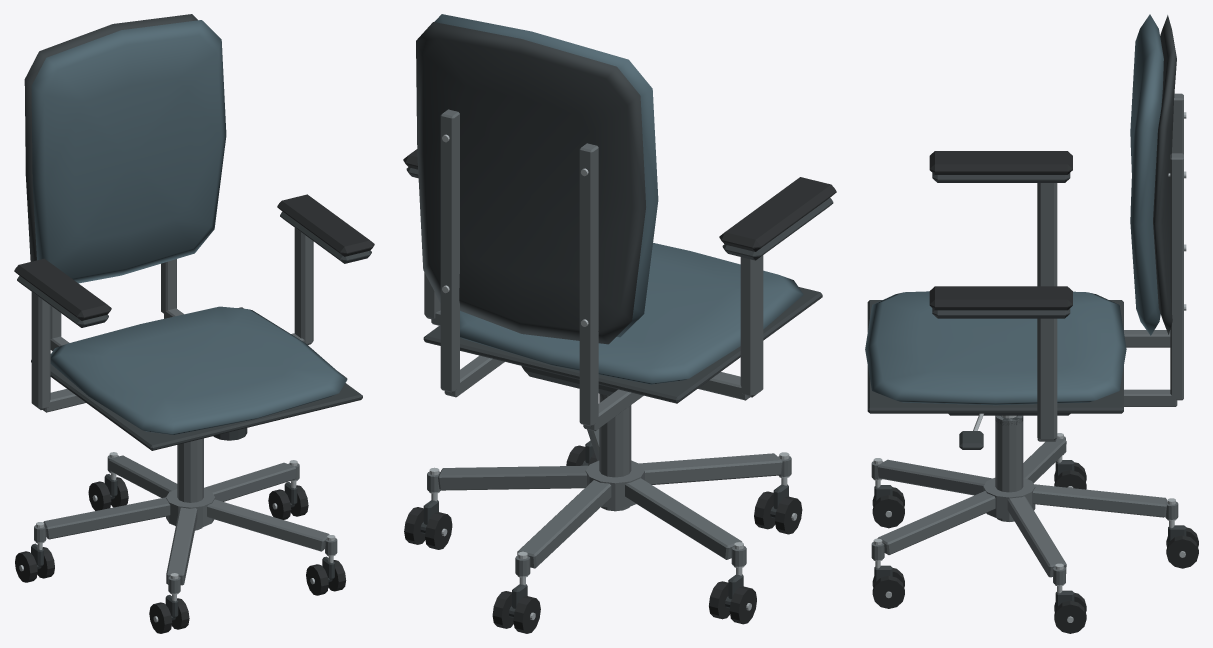
3 renders of one model, left to right at view 1: azimuth 30°, elevation 25°; view 2: azimuth 150°, elevation 25°; view 3: azimuth 270°, elevation 25°, orthographic. The views are drawn at different scales.
Visible parts, largest first — view 1: Back_cushion, Seat_cushion, Seat_under_shell, Back_shell, Arm_pad_1, Arm_pad_-1, Spoke_1, Spoke_3, Arm_post_-1, Arm_post_1, Spoke_4, Column_sleeve (+12 smaller); view 2: Back_shell, Seat_cushion, Back_upright_1, Back_upright_-1, Back_cushion, Seat_under_shell, Arm_pad_-1, Spoke_4, Arm_post_-1, Spoke_2, Spoke_1, Spoke_0 (+15 smaller); view 3: Seat_cushion, Back_cushion, Back_shell, Arm_pad_1, Seat_under_shell, Arm_pad_-1, Back_upright_1, Spoke_0, Arm_post_1, Spoke_3, Spoke_2, Arm_post_-1 (+14 smaller).
Boxes of the visible parts, x1=… form: Back_cushion: x1=31, y1=20, x2=226, y2=283; Seat_cushion: x1=50, y1=306, x2=347, y2=434; Seat_under_shell: x1=31, y1=307, x2=362, y2=450; Back_shell: x1=24, y1=14, x2=197, y2=261; Arm_pad_1: x1=277, y1=194, x2=374, y2=256; Arm_pad_-1: x1=14, y1=258, x2=111, y2=320; Spoke_1: x1=43, y1=497, x2=170, y2=539; Spoke_3: x1=207, y1=499, x2=329, y2=551; Arm_post_-1: x1=31, y1=292, x2=50, y2=409; Arm_post_1: x1=294, y1=228, x2=313, y2=344; Spoke_4: x1=204, y1=462, x2=296, y2=501; Column_sleeve: x1=177, y1=438, x2=203, y2=502; Back_shell: x1=416, y1=22, x2=645, y2=344; Seat_cushion: x1=460, y1=243, x2=803, y2=384; Back_upright_1: x1=440, y1=109, x2=459, y2=392; Back_upright_-1: x1=579, y1=143, x2=598, y2=426; Back_cushion: x1=434, y1=14, x2=658, y2=337; Seat_under_shell: x1=423, y1=287, x2=822, y2=403; Arm_pad_-1: x1=719, y1=177, x2=836, y2=251; Spoke_4: x1=438, y1=465, x2=588, y2=490; Arm_post_-1: x1=740, y1=255, x2=763, y2=397; Spoke_2: x1=639, y1=453, x2=782, y2=484; Spoke_1: x1=625, y1=478, x2=742, y2=559; Spoke_0: x1=517, y1=480, x2=611, y2=568; Seat_cushion: x1=865, y1=291, x2=1126, y2=405; Back_cushion: x1=1130, y1=14, x2=1163, y2=335; Back_shell: x1=1153, y1=15, x2=1176, y2=334; Arm_pad_1: x1=929, y1=286, x2=1072, y2=310; Seat_under_shell: x1=867, y1=300, x2=1123, y2=413; Arm_pad_-1: x1=929, y1=151, x2=1072, y2=174; Back_upright_1: x1=1170, y1=153, x2=1183, y2=400; Spoke_0: x1=1033, y1=484, x2=1166, y2=517; Arm_post_1: x1=1037, y1=318, x2=1057, y2=440; Spoke_3: x1=877, y1=491, x2=995, y2=554; Spoke_2: x1=877, y1=459, x2=992, y2=495; Arm_post_-1: x1=1037, y1=183, x2=1057, y2=286.
Size of the model in its own units: 0.67 by 1.05 by 0.6165.
